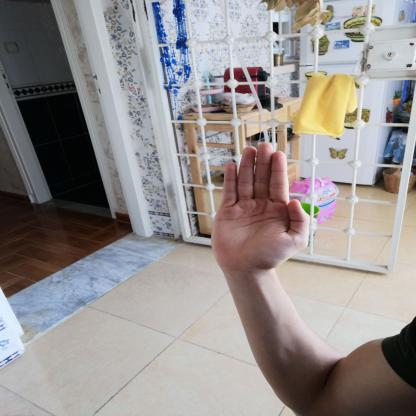SEEN: (202, 135, 320, 282)
